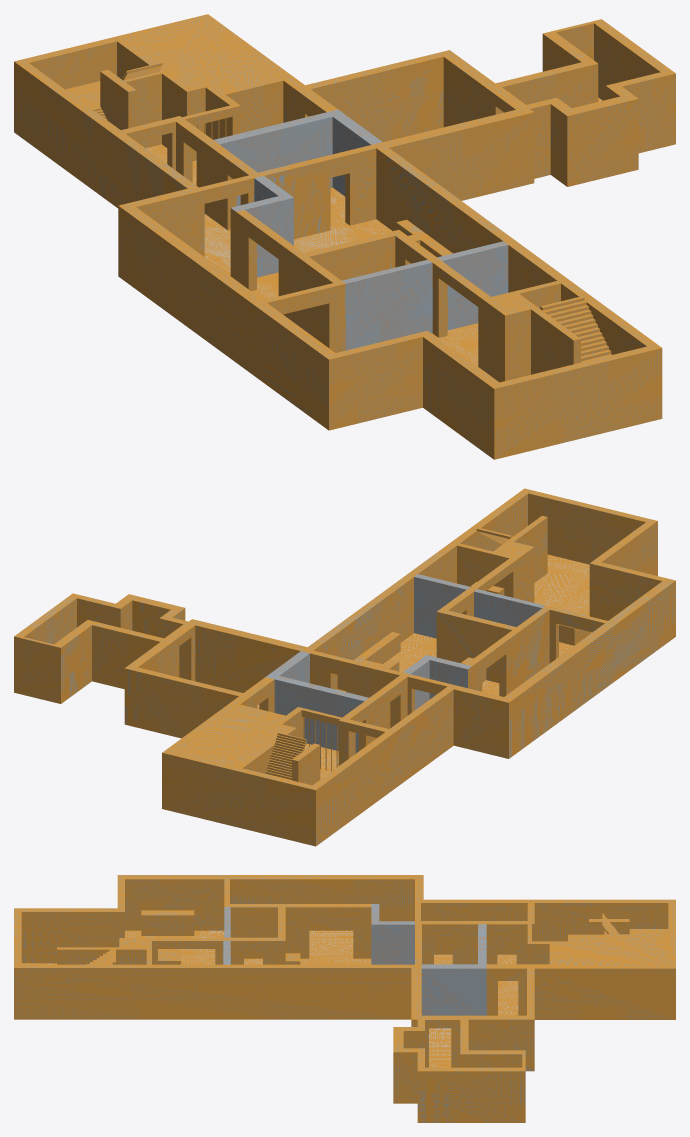
Rendered from Oregon0.fbx.
The picture shows the model from 3 angles, top to bottom: view 1: azimuth 30°, elevation 25°; view 2: azimuth 150°, elevation 25°; view 3: azimuth 270°, elevation 25°; orthographic projection. The views are drawn at different scales.
Visible parts, largest first — view 1: Model, Group2; view 2: Model, Group3; view 3: Model.
Part boxes in pixels (x1,y1,x2,y2): Model: [14, 14, 675, 459]; Group2: [540, 296, 611, 362]; Model: [14, 488, 675, 846]; Group3: [266, 732, 306, 780]; Model: [14, 875, 675, 1122].
Bounding box in the file's own units: 39.87 × 5.68 × 56.84.
